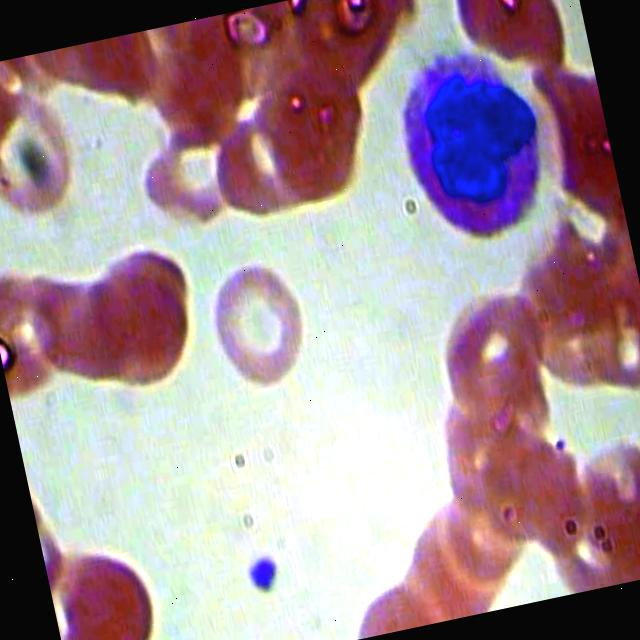Platelets: (238, 548, 286, 598)
RBC: (68, 233, 214, 405), (244, 54, 388, 222), (421, 278, 562, 430), (194, 247, 324, 401), (42, 528, 180, 640), (0, 73, 94, 225), (129, 109, 241, 234), (441, 0, 581, 92)
WBC: (380, 23, 570, 255)
